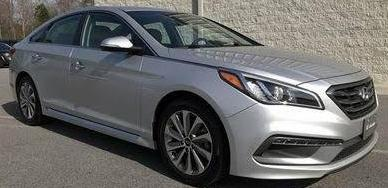Cars: (10, 8, 379, 185)
